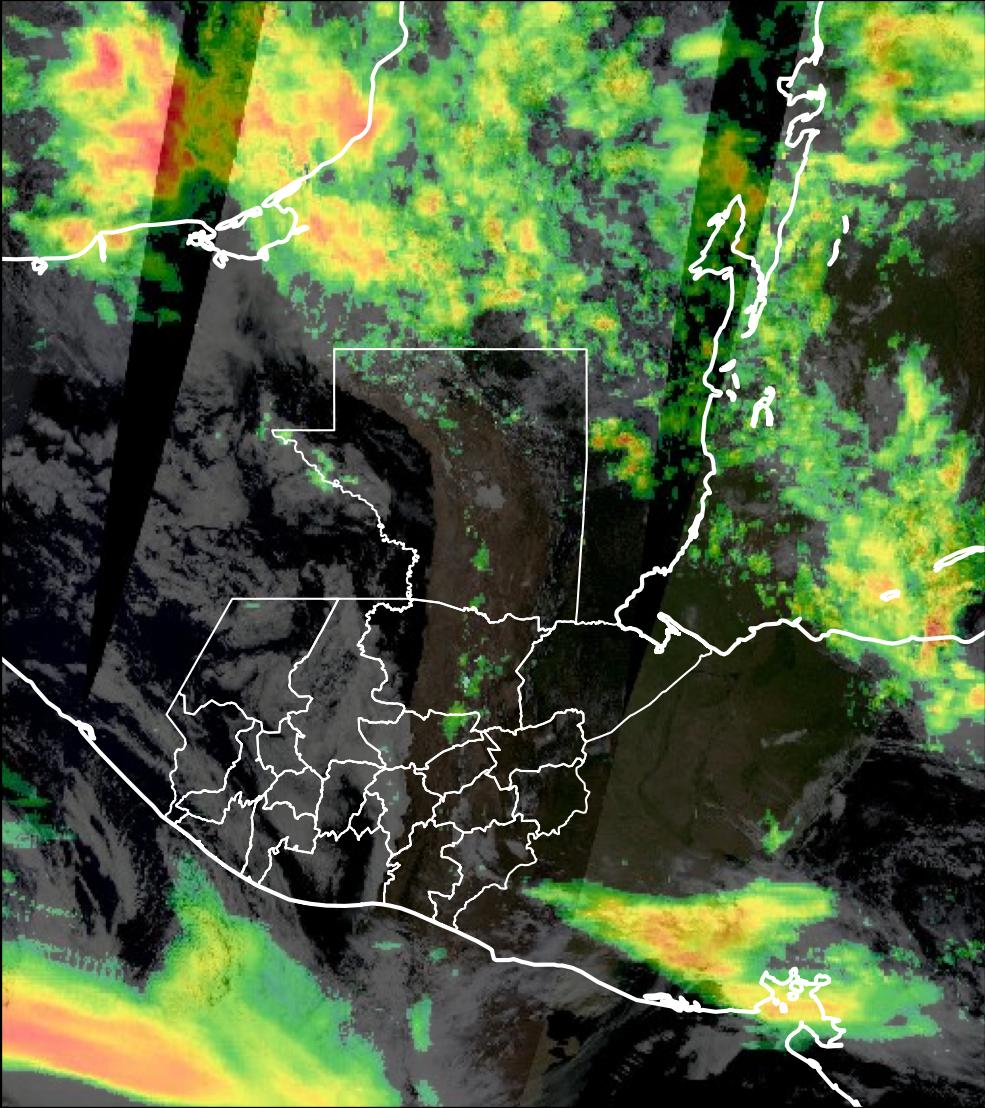precipitacion: (6, 977, 235, 1108), (70, 37, 198, 206)
